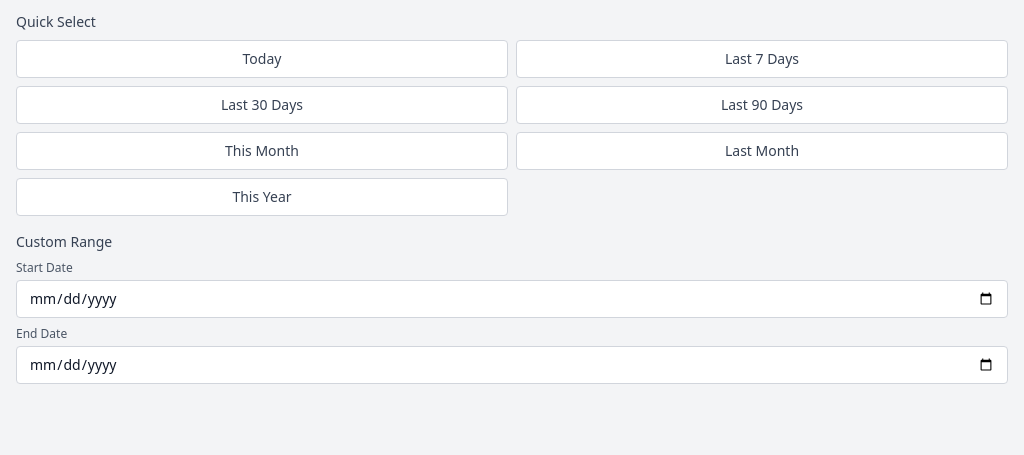
Test: DateRangeFilter › Custom Date Input Interactions › should show Custom indicator when start date is set
Type "2024-01-01" into the date field labelled "Start Date".
click(512, 299); type("2024-01-01")  # box [16,280,1008,318]
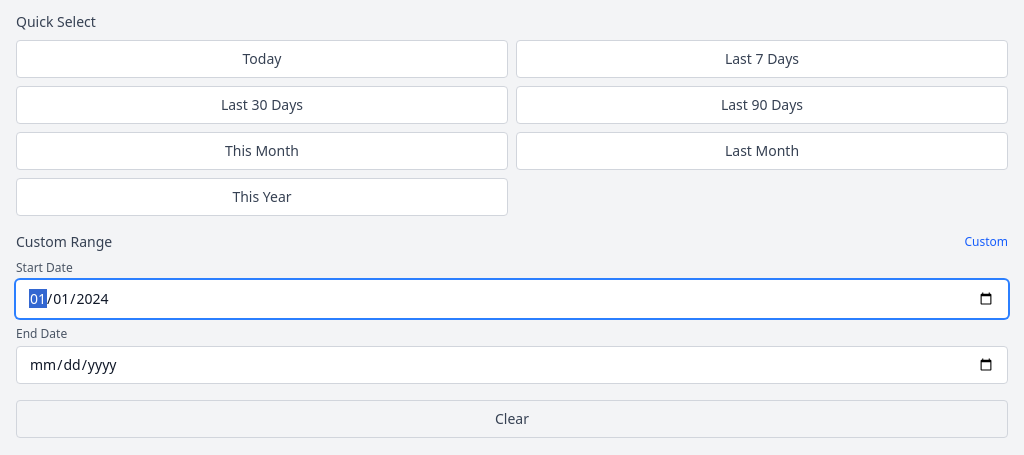
Check: the text "Custom" is shown, box [964,234,1008,250]
